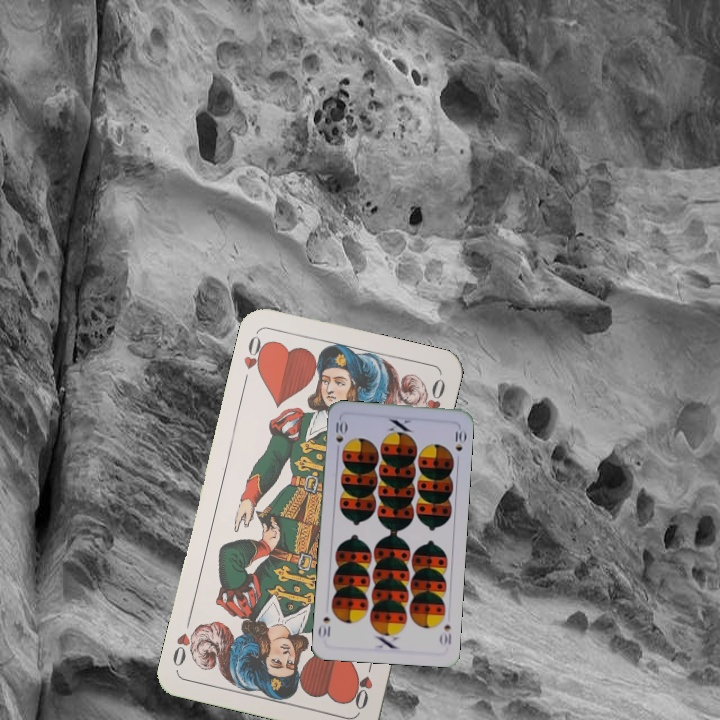HO: (239, 329, 271, 388), (348, 655, 376, 713)
S10: (332, 415, 348, 445), (436, 621, 454, 647)
